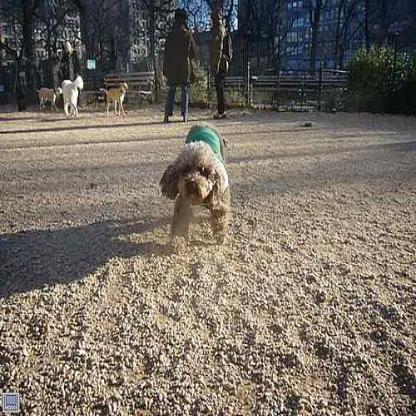miniature_poodle: (157, 121, 232, 252)
